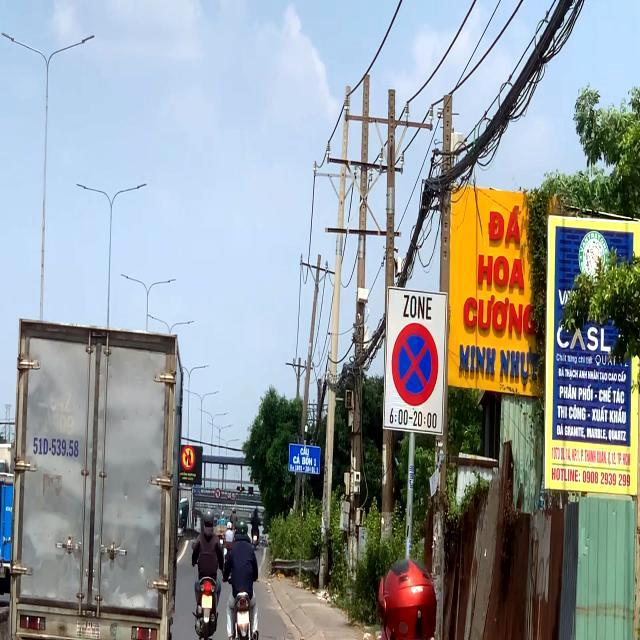Cam dung xe va do xe: (392, 322, 438, 407)
